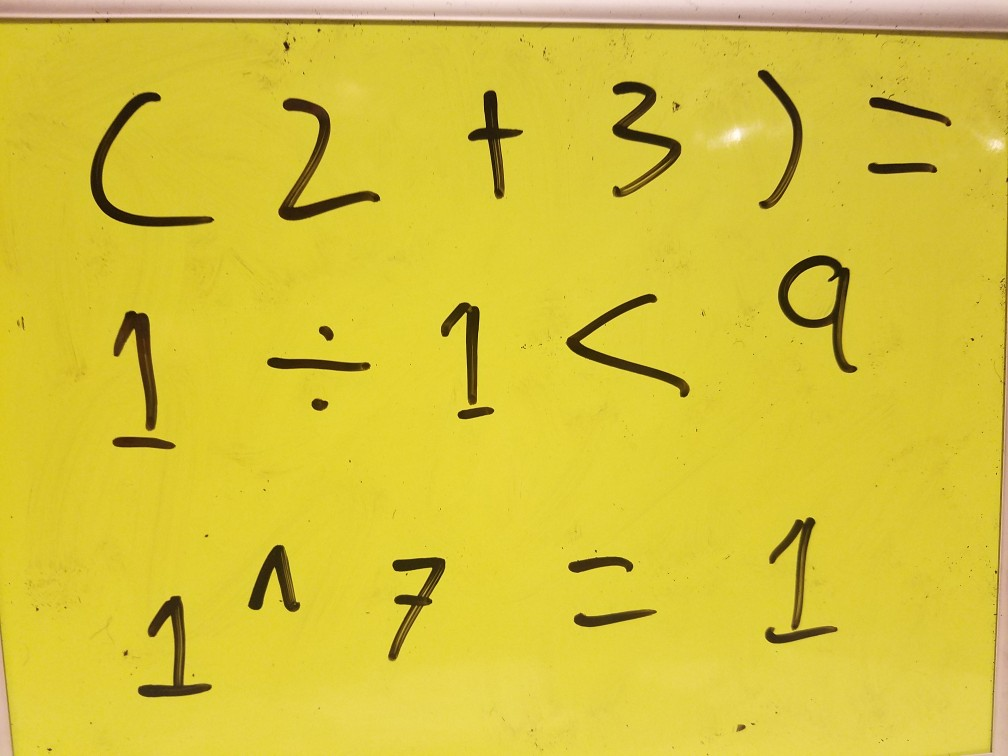(: (81, 76, 227, 248)
): (741, 58, 813, 222)
+: (452, 80, 526, 200)
1: (87, 288, 185, 483), (751, 504, 846, 659), (120, 587, 220, 711), (428, 295, 505, 444)
2: (265, 87, 388, 245)
3: (576, 64, 692, 221)
7: (381, 546, 454, 671)
9: (771, 250, 869, 393)
<: (559, 280, 697, 409)
=: (847, 77, 964, 199), (544, 535, 666, 651)
^: (246, 532, 310, 623)
div: (247, 312, 391, 428)
